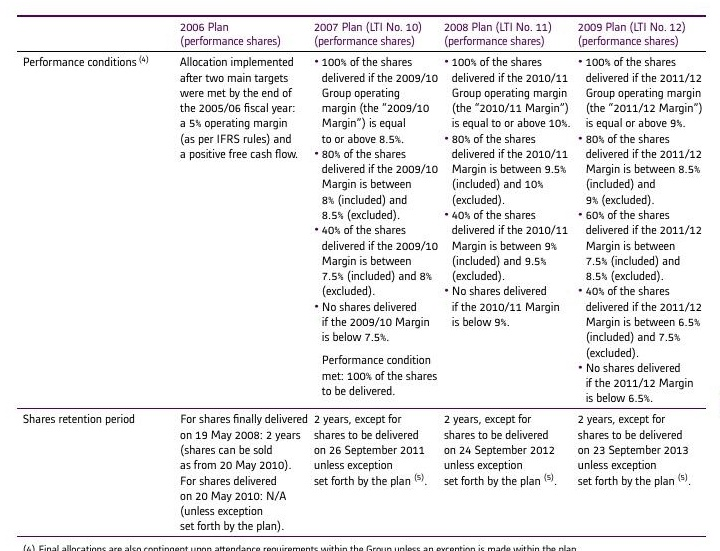table: (0, 0, 720, 551)
